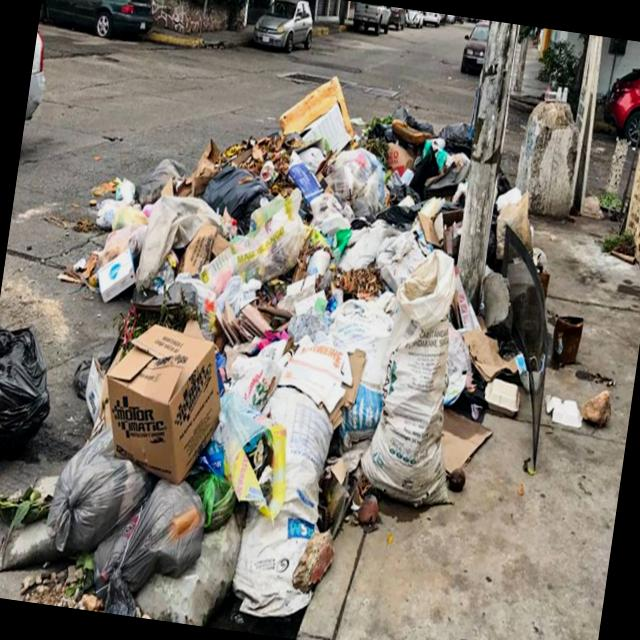garbage: (0, 7, 618, 640)
